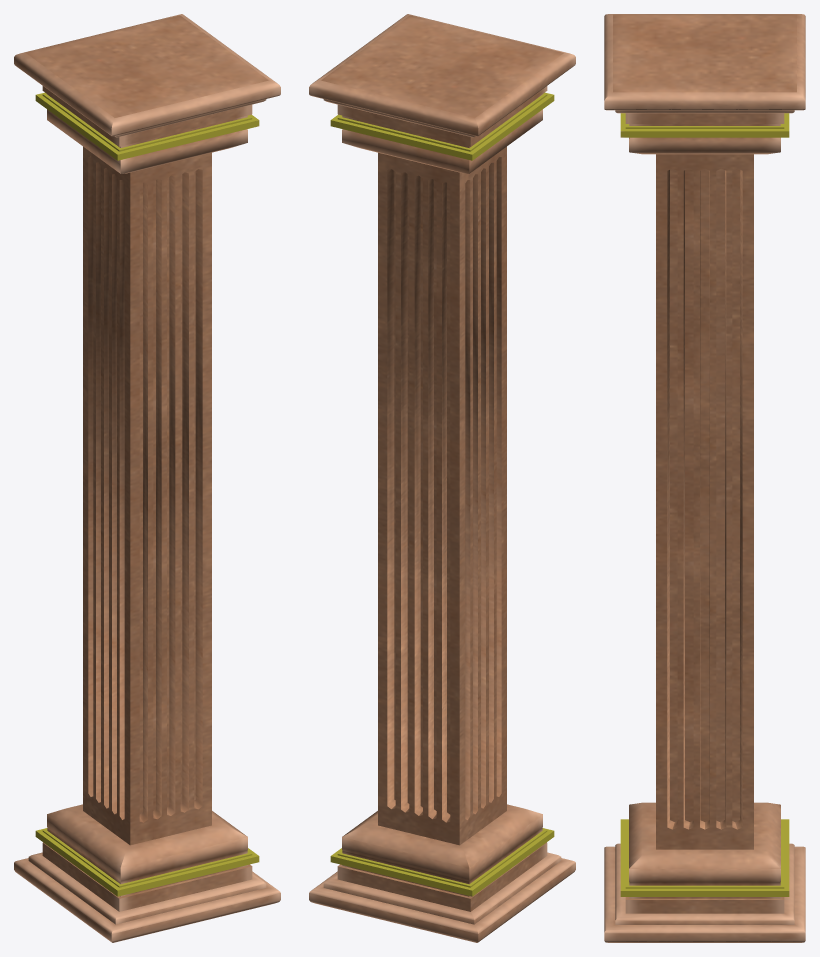
The model's file is Columna5.fbx.
3 views of the same model, side by side, from view 1: azimuth 30°, elevation 25°; view 2: azimuth 150°, elevation 25°; view 3: azimuth 270°, elevation 25° (orthographic). The views are drawn at different scales.
Visible parts, largest first — view 1: Cube.001; view 2: Cube.001; view 3: Cube.001.
Part boxes in pixels (x1=…): Cube.001: x1=14, y1=14, x2=280, y2=942; Cube.001: x1=309, y1=14, x2=575, y2=942; Cube.001: x1=604, y1=14, x2=805, y2=942.
Bounding box in the file's own units: 415 × 1931 × 415.
Materials: 1 (1 with a texture image).
